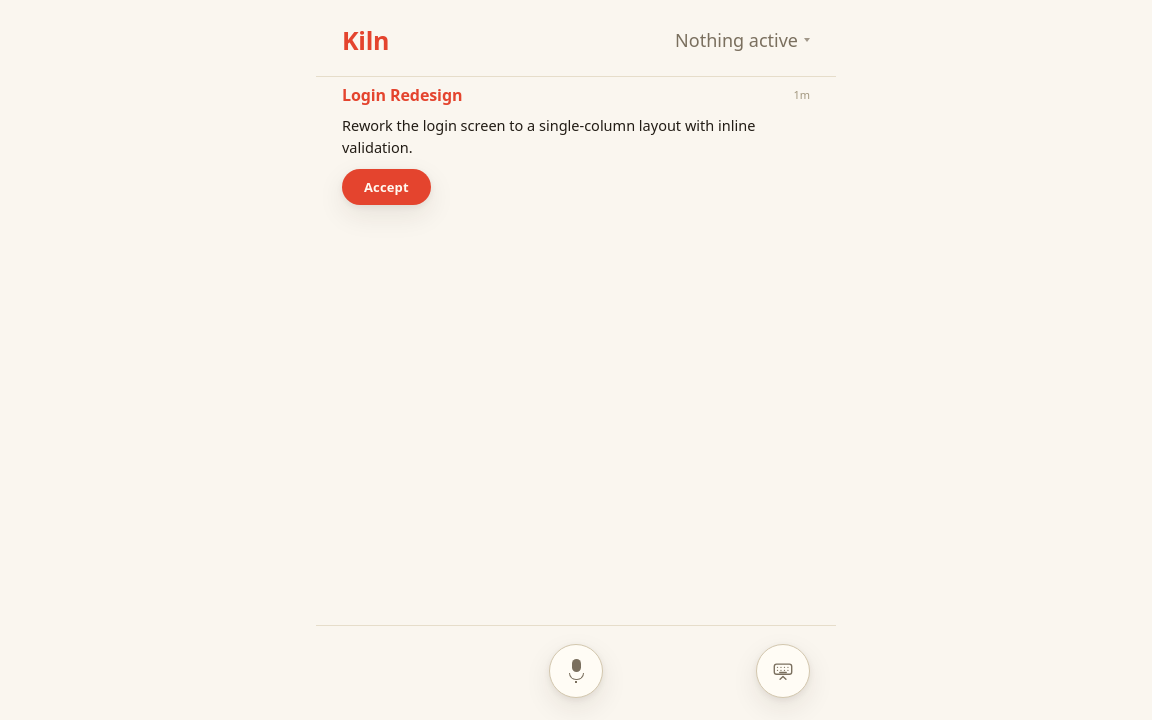
Test case: PrimaryScreenView › opens the full ticket detail overlay when a proposal card body is tapped (08 §5)
What coordinates should you click on to do the following:
click the button with aria-label "Open ticket: Login Redesign"
I would click on:
 (576, 137)
Its box is [342,115,810,159].
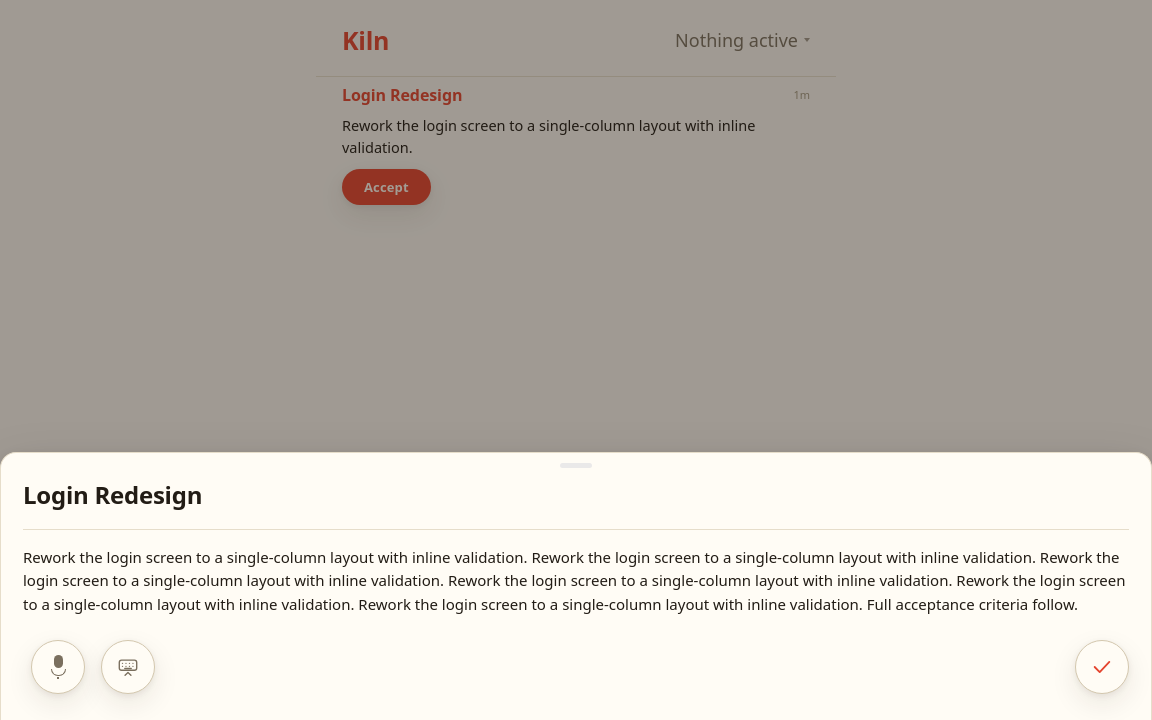
Accepting from the overlay flows the ticket id up and drains the overlay.
What coordinates should you click on to do the following:
click the button named "Accept"
I would click on:
 (1102, 667)
Its box is [1075,640,1129,694].
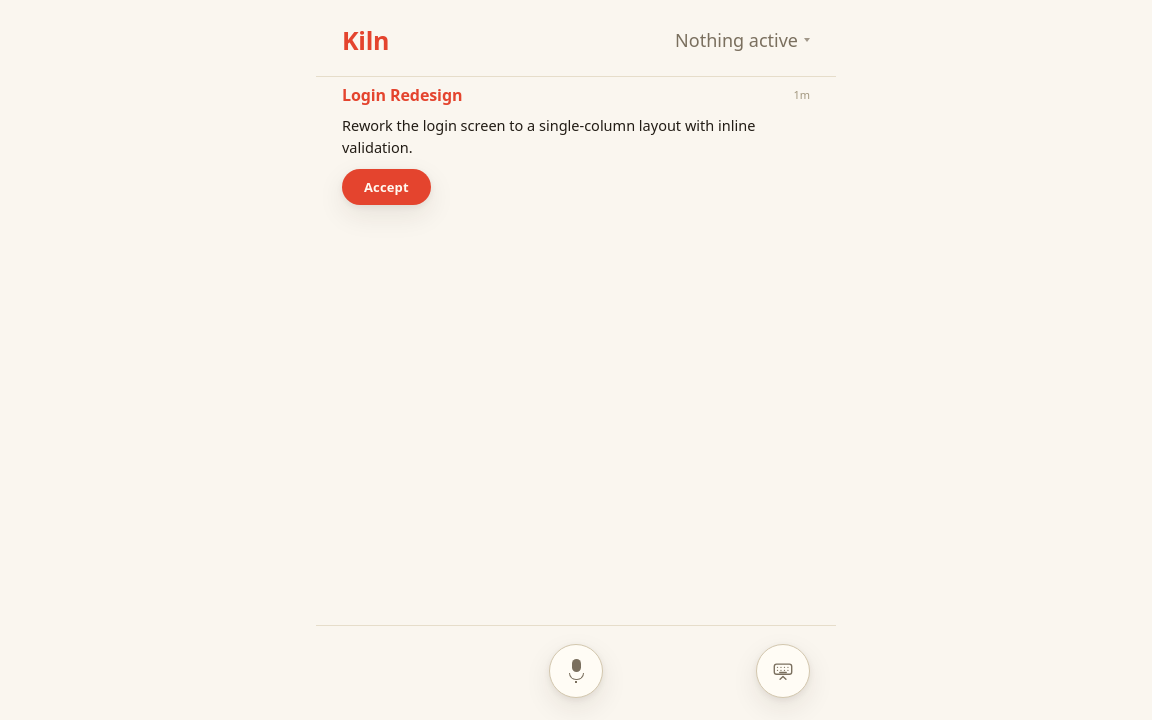
Expected: the dialog is gone
